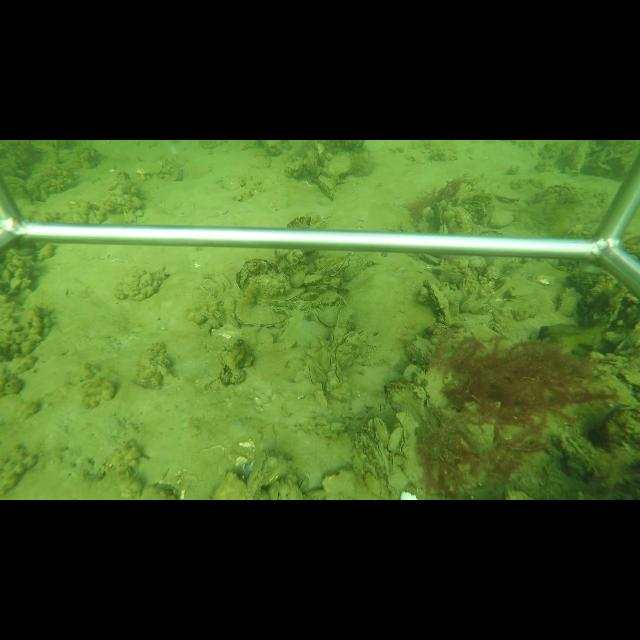Oyster-Closed: (558, 427, 601, 481), (353, 429, 388, 486), (233, 298, 286, 327), (423, 277, 452, 324), (247, 448, 274, 496), (321, 467, 360, 500), (236, 259, 268, 292), (328, 362, 349, 390), (304, 143, 320, 177), (317, 174, 337, 201), (312, 382, 330, 409), (374, 416, 389, 446), (330, 255, 350, 276), (303, 365, 319, 386), (285, 288, 306, 302), (298, 474, 310, 492), (437, 223, 449, 233)
